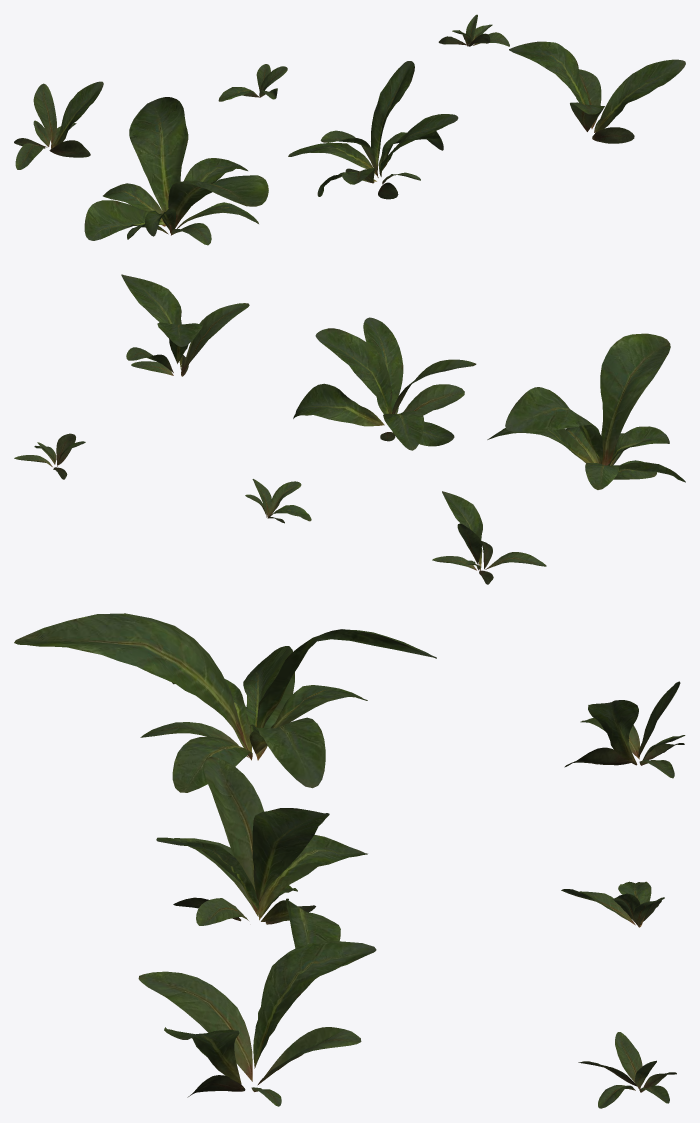
The model's file is anthurium_botany_01.glb.
The picture shows the model from 3 angles, top to bottom: view 1: azimuth 30°, elevation 25°; view 2: azimuth 150°, elevation 25°; view 3: azimuth 270°, elevation 25°; orthographic projection. The views are drawn at different scales.
Visible parts, largest first — view 1: anthurium_botany_01_a, anthurium_botany_01_c, anthurium_botany_01_b, anthurium_botany_04_d, anthurium_botany_05_e, anthurium_botany_06_f; view 2: anthurium_botany_01_a, anthurium_botany_01_b, anthurium_botany_01_c, anthurium_botany_04_d, anthurium_botany_05_e, anthurium_botany_06_f; view 3: anthurium_botany_01_a, anthurium_botany_01_b, anthurium_botany_01_c, anthurium_botany_04_d, anthurium_botany_06_f, anthurium_botany_05_e.
Part boxes in pixels (x1,y1,x2,y2): anthurium_botany_01_a: (84,97,268,245); anthurium_botany_01_c: (509,41,685,143); anthurium_botany_01_b: (288,61,458,199); anthurium_botany_04_d: (14,81,103,169); anthurium_botany_05_e: (218,64,287,101); anthurium_botany_06_f: (438,14,509,46); anthurium_botany_01_a: (487,333,685,489); anthurium_botany_01_b: (293,317,476,450); anthurium_botany_01_c: (121,274,249,376); anthurium_botany_04_d: (432,491,546,584); anthurium_botany_05_e: (245,479,311,523); anthurium_botany_06_f: (14,433,85,479); anthurium_botany_01_a: (14,613,436,792); anthurium_botany_01_b: (156,756,367,948); anthurium_botany_01_c: (138,941,376,1106); anthurium_botany_04_d: (564,681,685,778); anthurium_botany_06_f: (578,1032,676,1108); anthurium_botany_05_e: (561,881,664,927).
Bounding box in the file's own units: 2.76 × 0.4775 × 1.74.
1 material, 1 textured.
